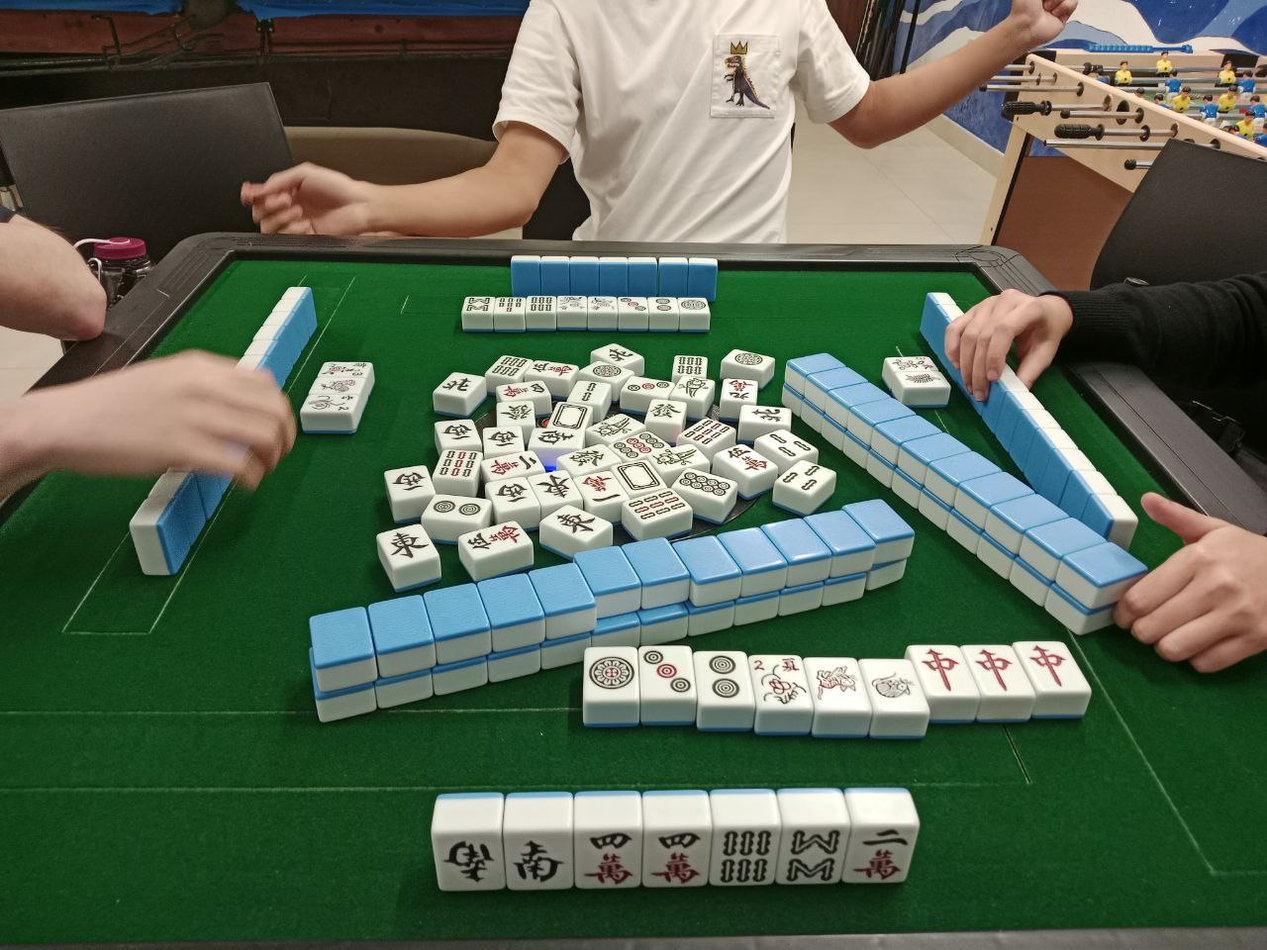TILE: (432, 828, 506, 890), (502, 827, 574, 890), (574, 826, 645, 889), (643, 826, 711, 887), (849, 824, 917, 885), (711, 826, 781, 885), (781, 822, 848, 883), (805, 657, 872, 715), (863, 654, 924, 717), (911, 640, 976, 699), (746, 652, 811, 709), (694, 648, 753, 710), (1018, 641, 1089, 692), (959, 643, 1025, 697), (637, 644, 694, 701), (584, 646, 637, 702)
